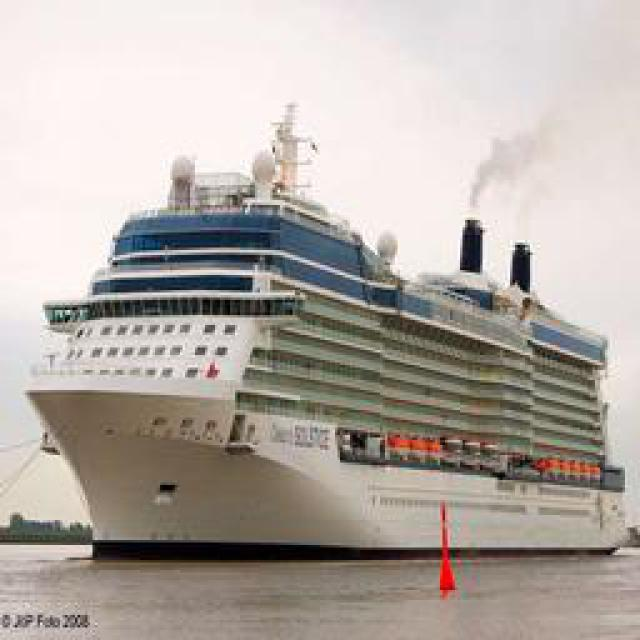Ship: (18, 150, 626, 558)
